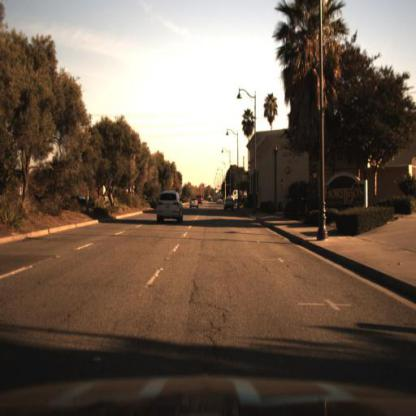car: (152, 183, 188, 234), (221, 192, 239, 215), (185, 196, 203, 217)
truck: (230, 183, 252, 206)
